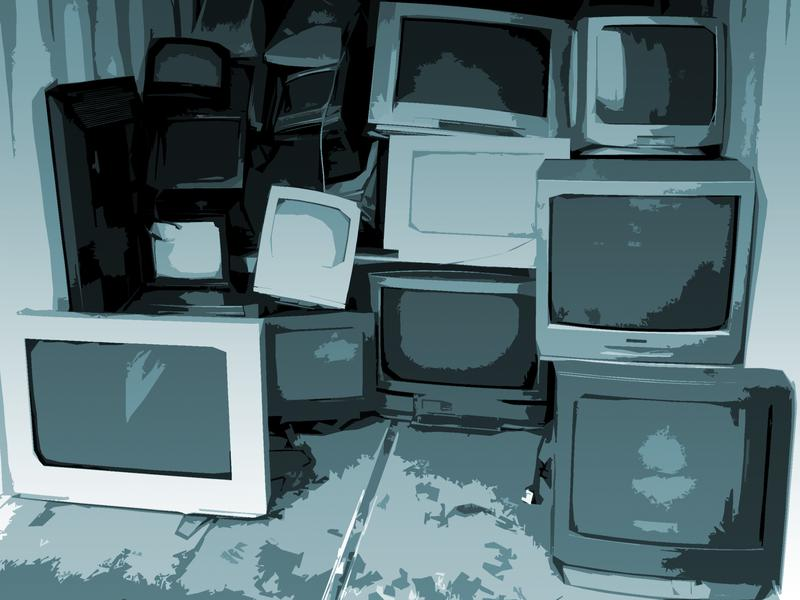tv_pc: (528, 349, 800, 600), (2, 301, 281, 524), (527, 151, 753, 366), (361, 257, 551, 434), (368, 3, 571, 137), (569, 15, 727, 154), (258, 308, 382, 429), (141, 33, 236, 114)
